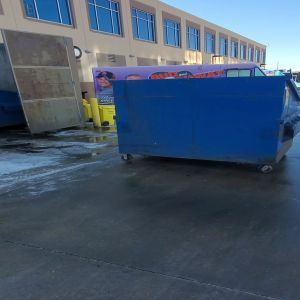Dumpster: (108, 77, 300, 174)
